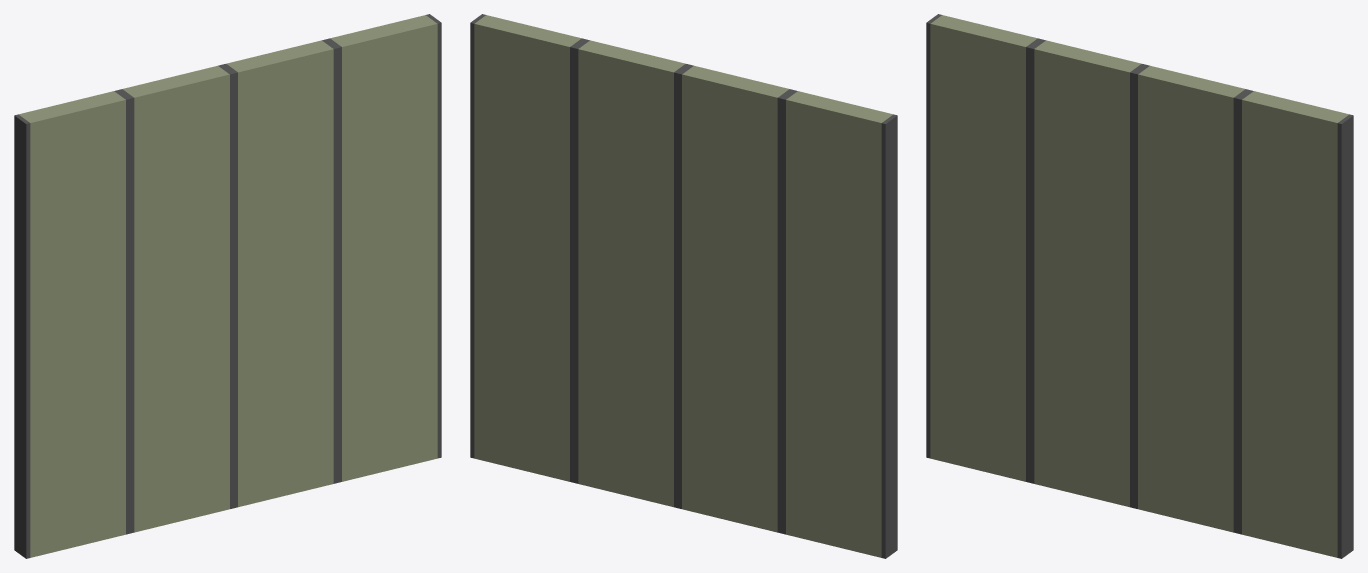
File: Wall.fbx
The picture shows the model from 3 angles, left to right: view 1: azimuth 30°, elevation 25°; view 2: azimuth 150°, elevation 25°; view 3: azimuth 330°, elevation 25°; orthographic projection.
Visible parts, largest first — view 1: Wall; view 2: Wall; view 3: Wall.
Part boxes in pixels (left/top/right/bottom): Wall: left=14, top=14, right=441, bottom=558; Wall: left=470, top=14, right=897, bottom=558; Wall: left=926, top=14, right=1353, bottom=558.
Size of the model in its own units: 2000 by 2000 by 100.
